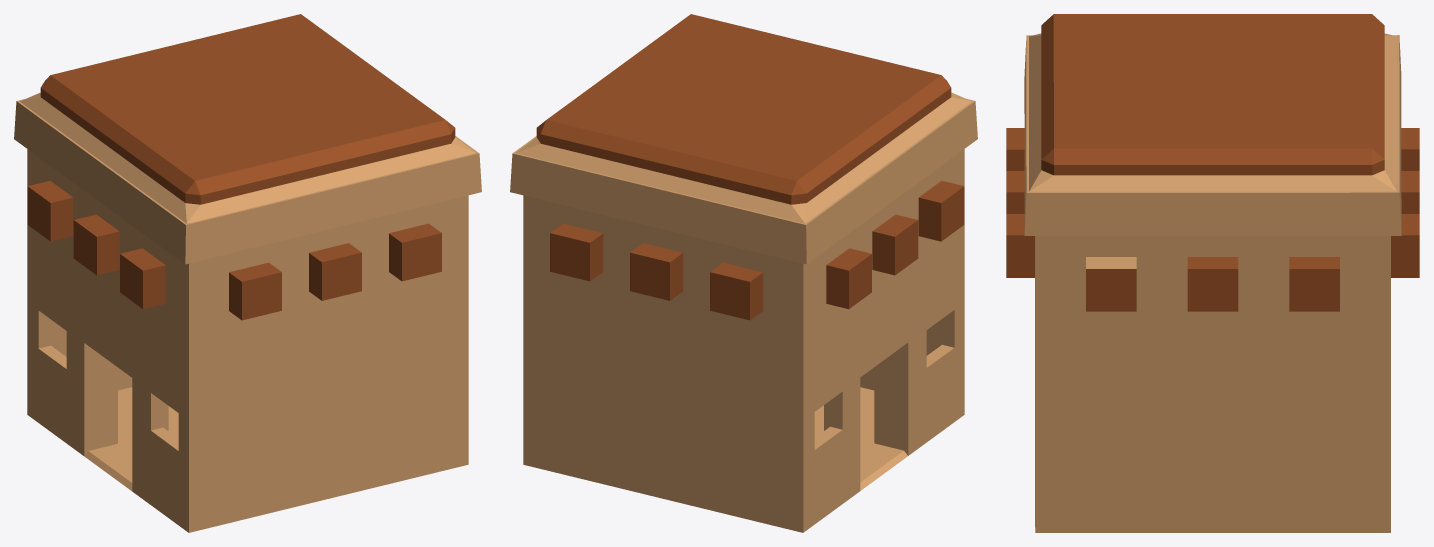
The model's file is AlhunzCasa.fbx.
3 views of the same model, side by side, from view 1: azimuth 30°, elevation 25°; view 2: azimuth 150°, elevation 25°; view 3: azimuth 270°, elevation 25° (orthographic). The views are drawn at different scales.
Visible parts, largest first — view 1: Cube.008; view 2: Cube.008; view 3: Cube.008.
Part boxes in pixels (box(x1,y1,x2,y2)): Cube.008: box(14, 14, 481, 532); Cube.008: box(510, 14, 977, 532); Cube.008: box(1006, 14, 1419, 532).
Bounding box in the file's own units: 705 × 708 × 705.
